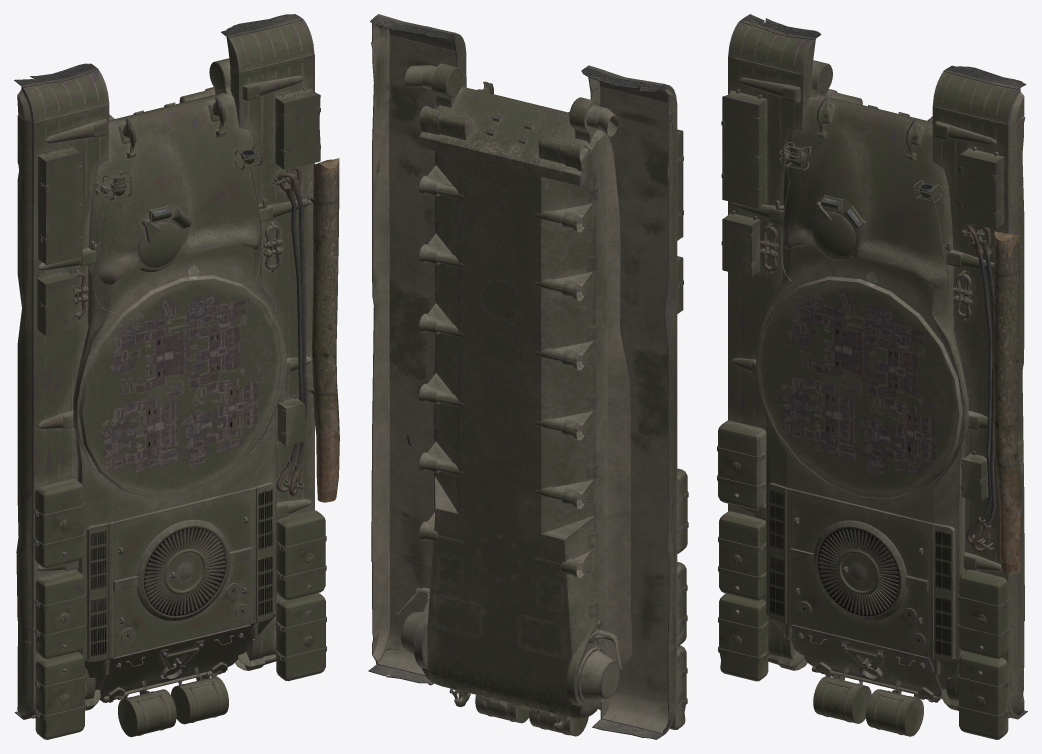
File: Hull.glb
The picture shows the model from 3 angles, left to right: view 1: azimuth 30°, elevation 25°; view 2: azimuth 150°, elevation 25°; view 3: azimuth 330°, elevation 25°; orthographic projection. The views are drawn at different scales.
Parts seen in each view (by area): view 1: set_0_group_0; view 2: set_0_group_0; view 3: set_0_group_0.
Boxes of the visible parts, x1,y1,x2,y2 form: set_0_group_0: (14,14,339,739); set_0_group_0: (368,14,688,739); set_0_group_0: (717,14,1027,739).
Size of the model in its own units: 3.74 by 7.81 by 1.1.
Materials: 1 (1 with a texture image).
